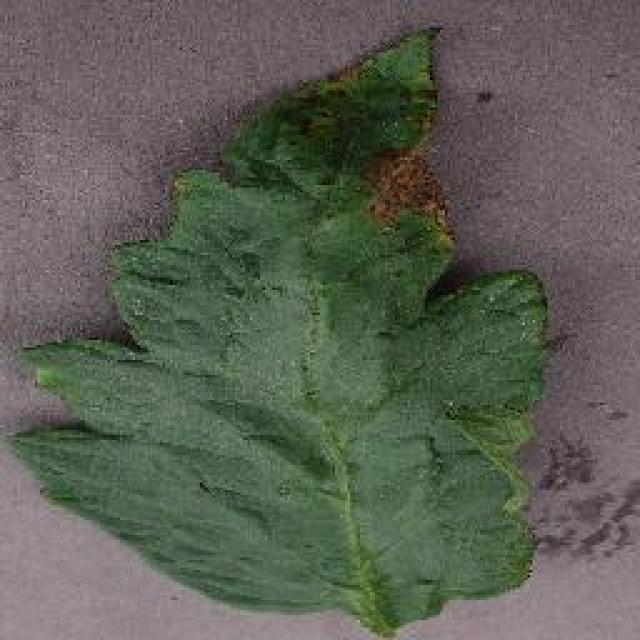Tomato___Bacterial_spot: (0, 24, 580, 638)
